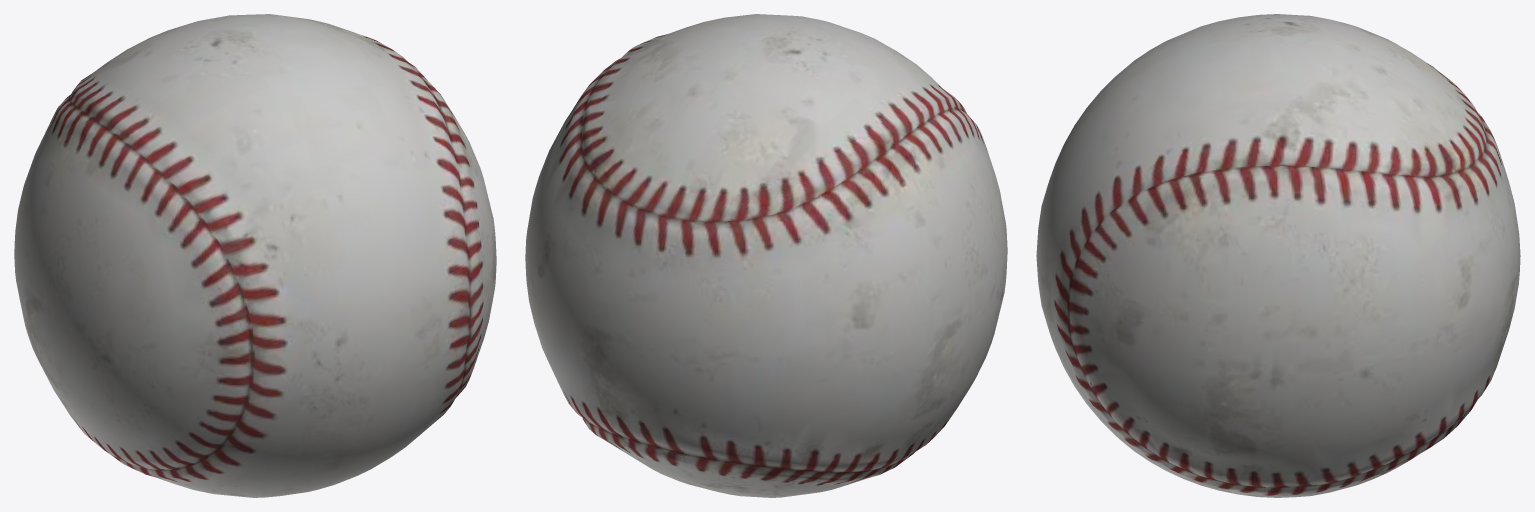
File: baseball_01.glb
3 views of the same model, side by side, from view 1: azimuth 30°, elevation 25°; view 2: azimuth 150°, elevation 25°; view 3: azimuth 270°, elevation 25° (orthographic).
Visible parts, largest first — view 1: baseball_01; view 2: baseball_01; view 3: baseball_01.
Part boxes in pixels (box(x1,y1,x2,y2)): baseball_01: box(14, 14, 496, 497); baseball_01: box(525, 14, 1007, 497); baseball_01: box(1036, 14, 1520, 497).
Bounding box in the file's own units: 0.0735 × 0.0753 × 0.0752.
Materials: 1 (1 with a texture image).
